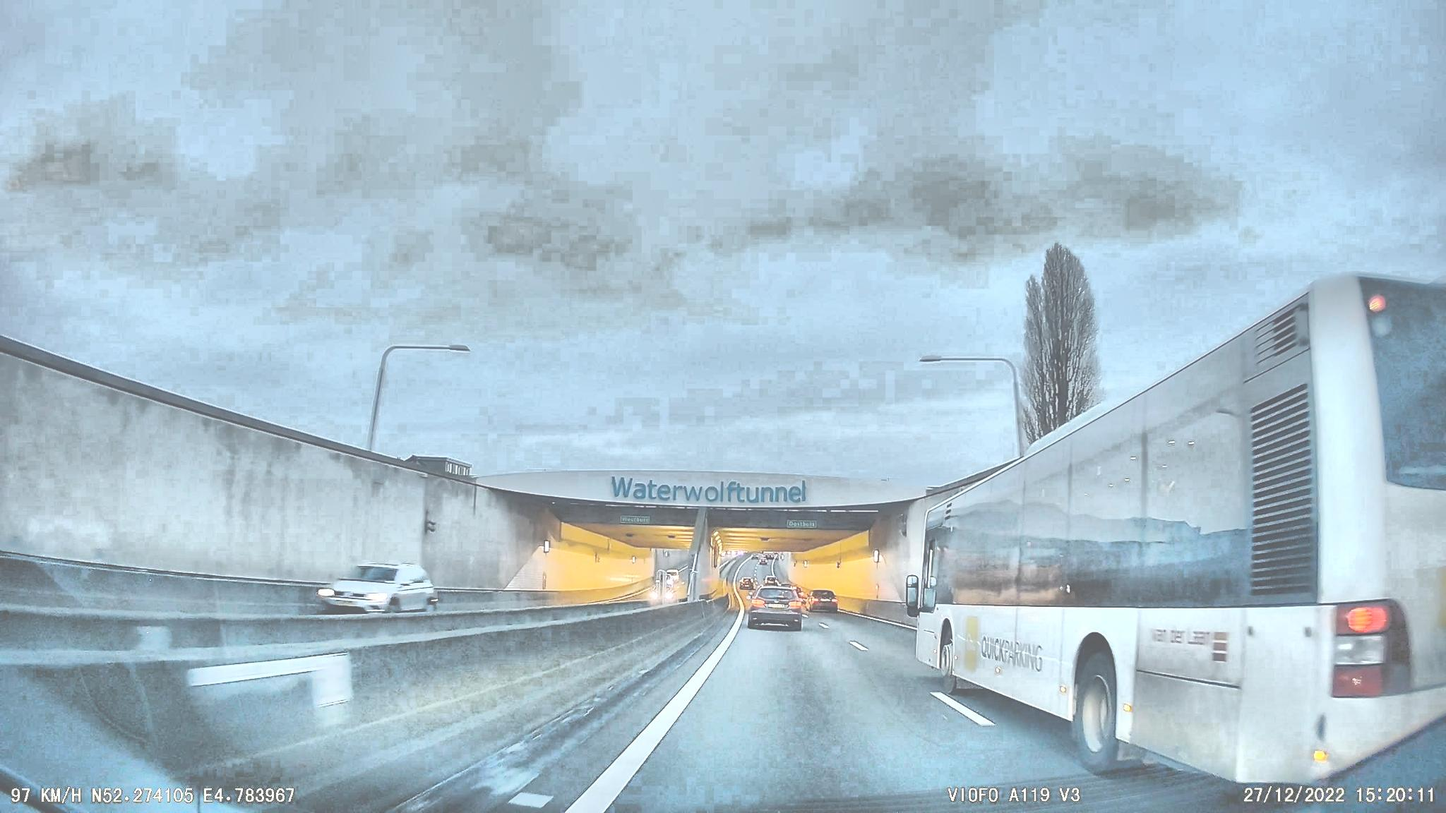Roads: (418, 616, 1192, 813)
